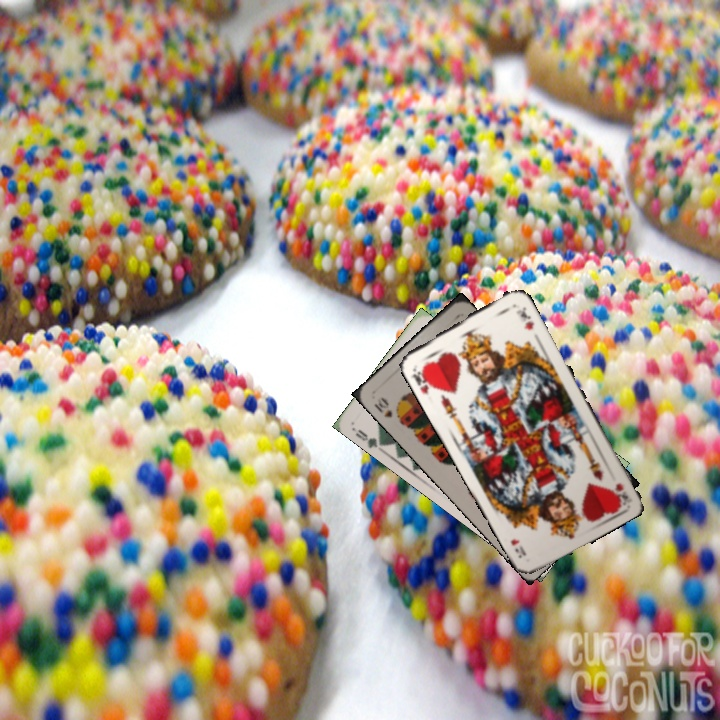G9: (351, 425, 387, 450)
HK: (408, 361, 437, 397), (611, 479, 631, 504)
S10: (370, 393, 404, 425)
